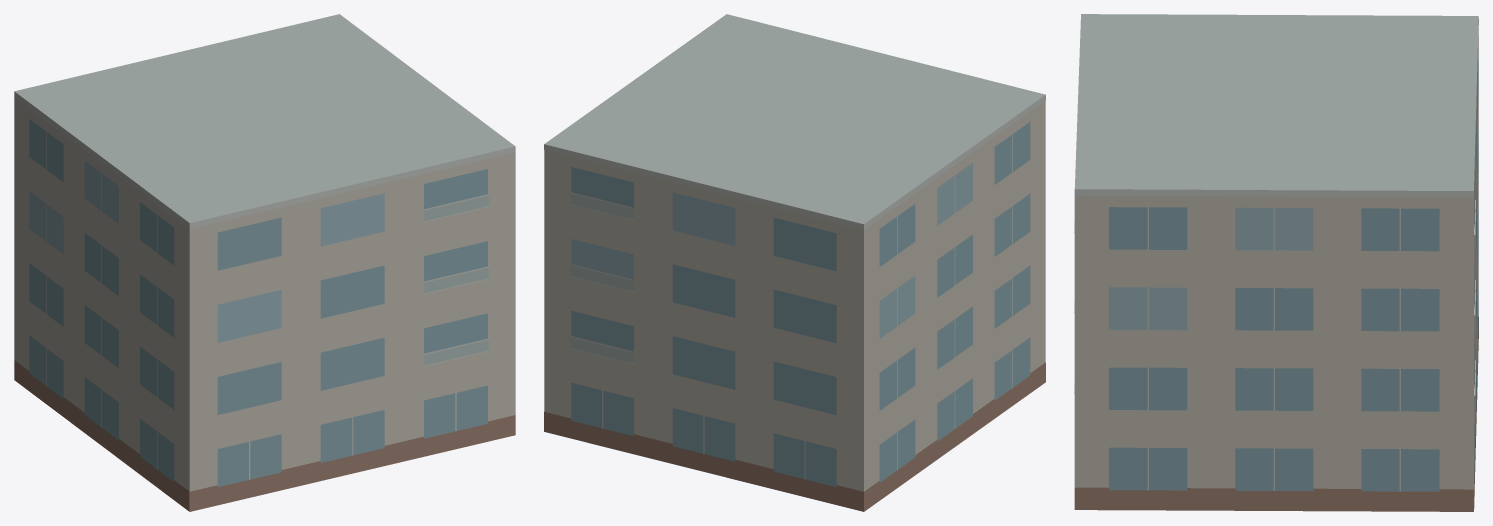
The model's file is survey-upis-32679907.glb.
3 renders of one model, left to right at view 1: azimuth 30°, elevation 25°; view 2: azimuth 150°, elevation 25°; view 3: azimuth 270°, elevation 25°, orthographic. The views are drawn at different scales.
Parts seen in each view (by area): view 1: survey-upis-32679907.tmp; view 2: survey-upis-32679907.tmp; view 3: survey-upis-32679907.tmp.
Boxes of the visible parts, x1,y1,x2,y2 form: survey-upis-32679907.tmp: (14, 14, 515, 511); survey-upis-32679907.tmp: (544, 14, 1045, 511); survey-upis-32679907.tmp: (1074, 14, 1478, 511).
Bounding box in the file's own units: 14.07 × 11.87 × 13.58.
